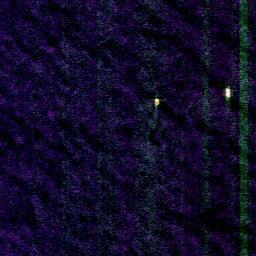Ship: (151, 93, 164, 109), (221, 85, 232, 101)
